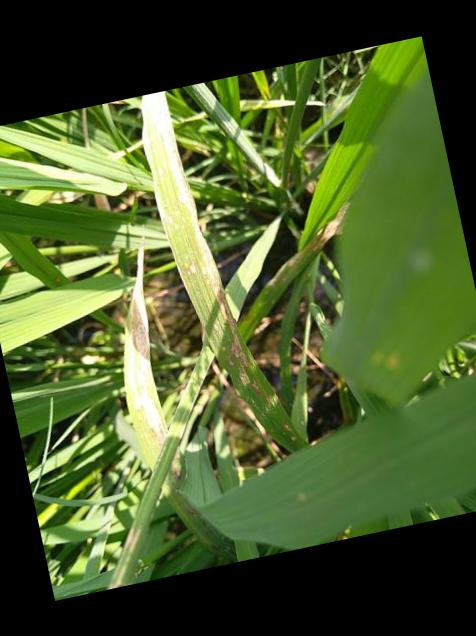Leaf Streak: (141, 92, 298, 442), (236, 202, 349, 341), (122, 245, 168, 470), (167, 464, 236, 560)
